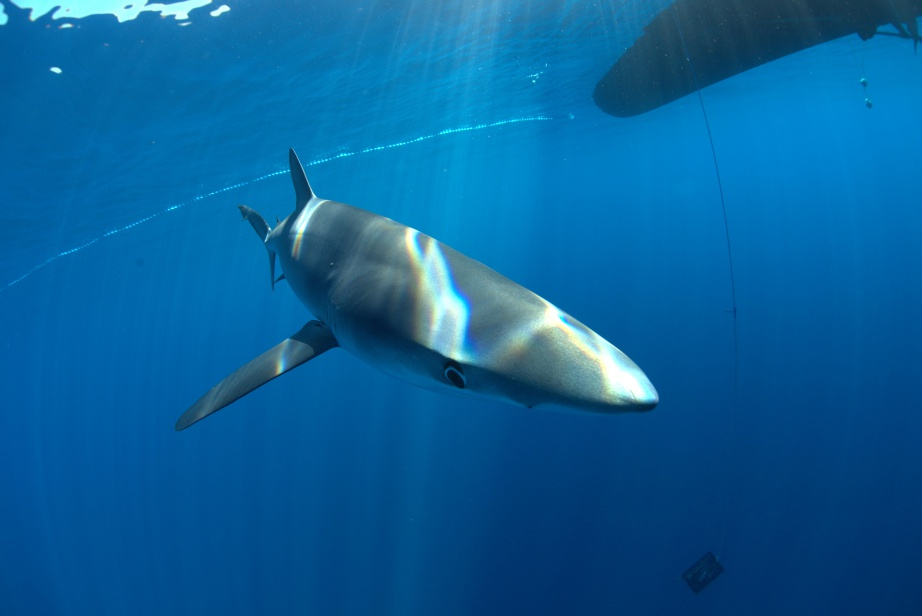Azul: (162, 142, 672, 457)
